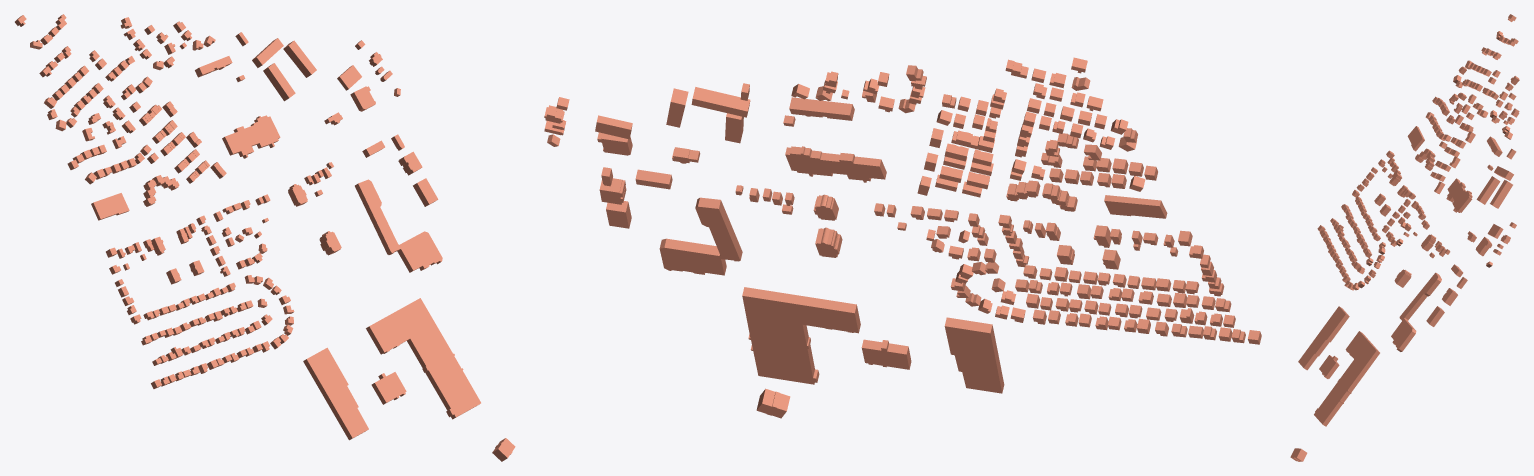
The picture shows the model from 3 angles, left to right: view 1: azimuth 30°, elevation 25°; view 2: azimuth 150°, elevation 25°; view 3: azimuth 270°, elevation 25°; orthographic projection. The views are drawn at different scales.
Parts seen in each view (by area): view 1: mesh; view 2: mesh; view 3: mesh.
Part boxes in pixels (box(x1,y1,x2,y2)): mesh: box(15, 14, 515, 461); mesh: box(544, 57, 1261, 418); mesh: box(1290, 14, 1519, 461).
Size of the model in its own units: 855 by 937 by 605.
